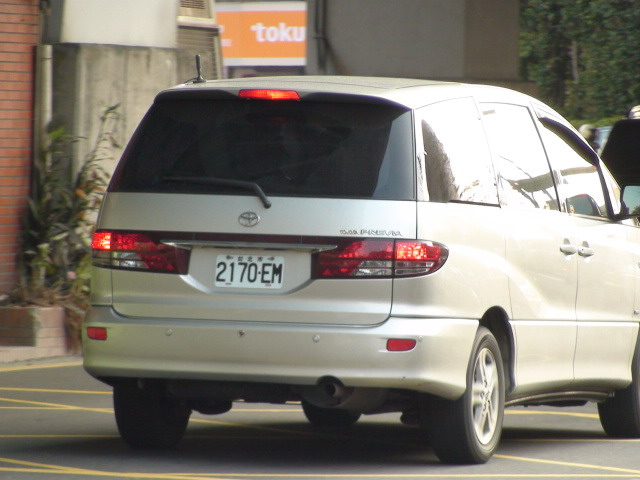plate: (213, 251, 287, 293)
